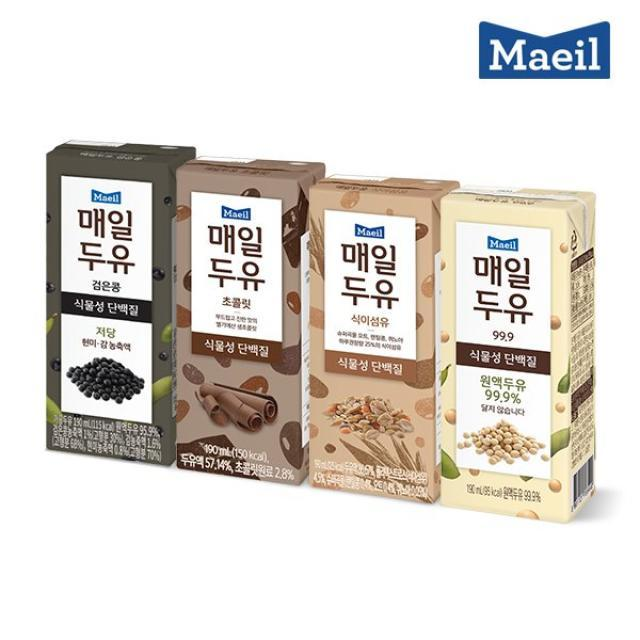Tetra: (436, 171, 614, 528), (35, 123, 200, 474), (170, 153, 330, 492), (306, 167, 456, 521)
